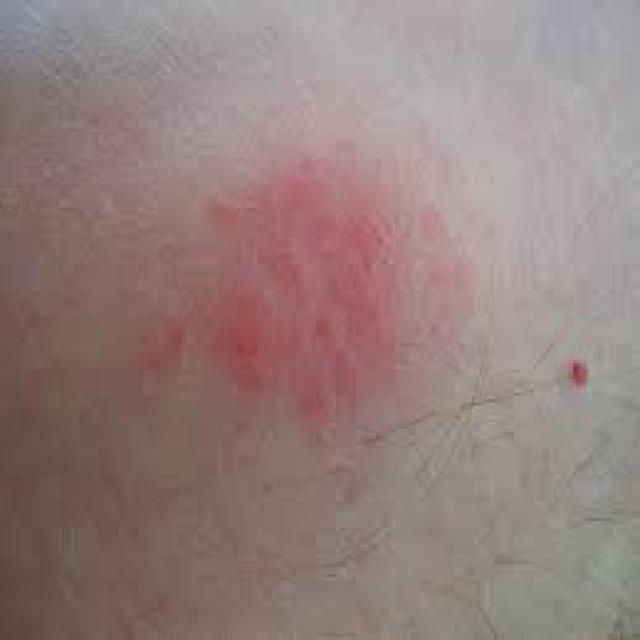kan emici bocekler: (217, 192, 434, 410)
